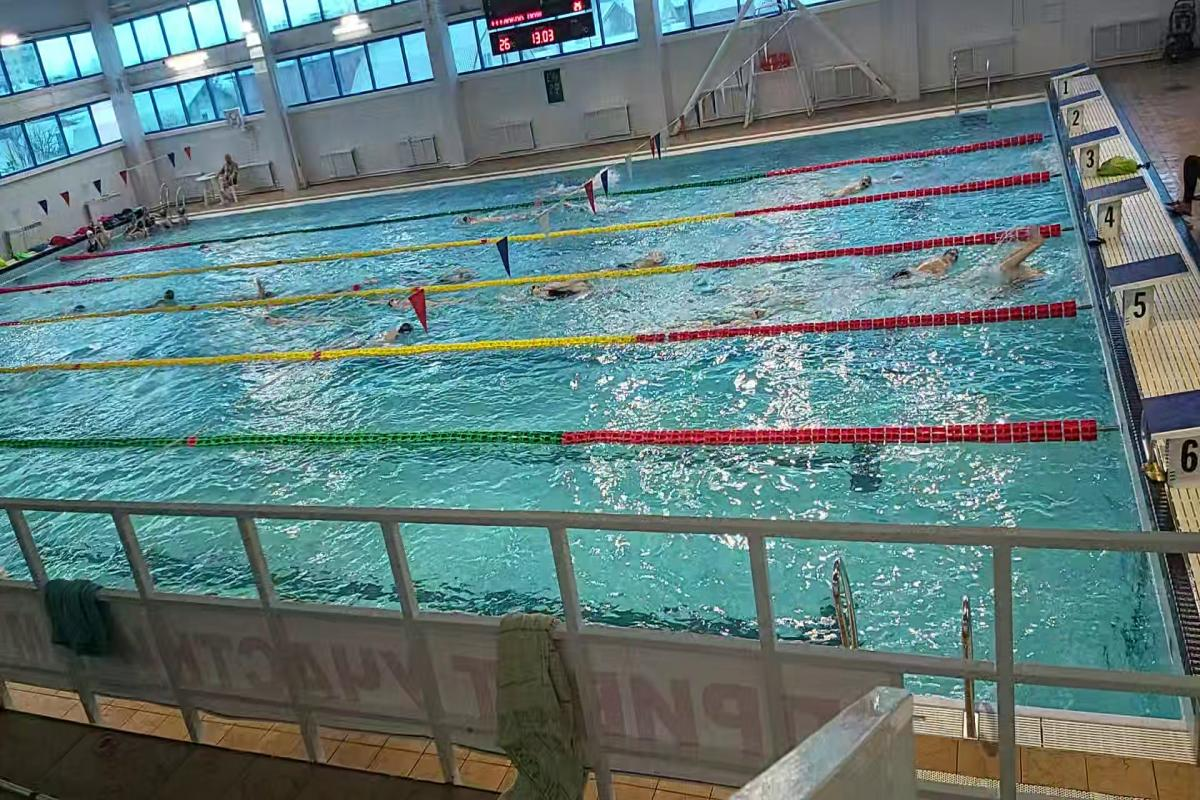swimmer: (884, 249, 962, 290), (521, 276, 601, 300), (816, 170, 882, 198), (364, 315, 416, 345), (460, 208, 536, 228), (610, 247, 676, 267), (237, 276, 284, 300), (140, 284, 186, 306), (368, 290, 413, 312)
